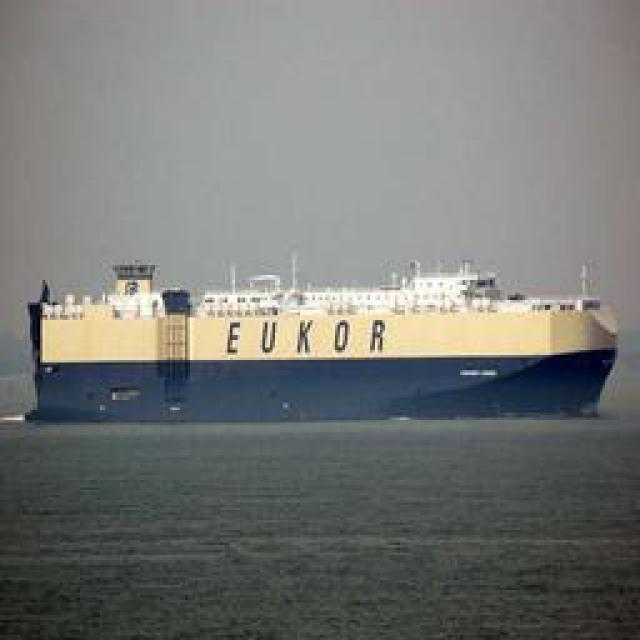Ship: (15, 245, 628, 425)
